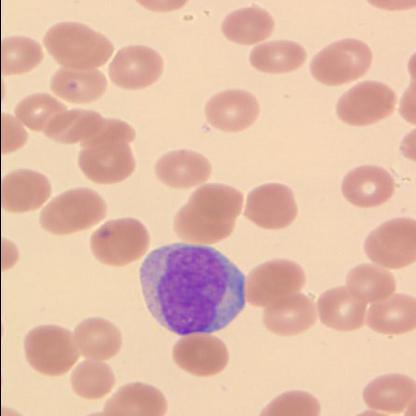Promyelocyte: (134, 242, 244, 336)
